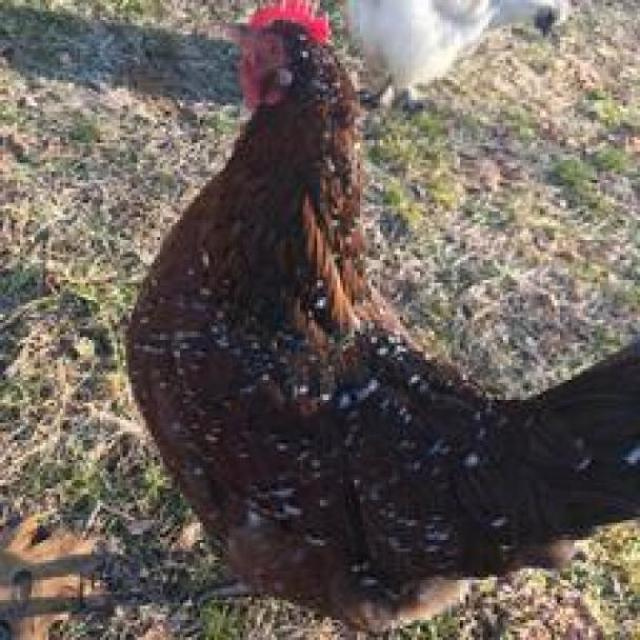Chicken: (134, 4, 640, 637)
